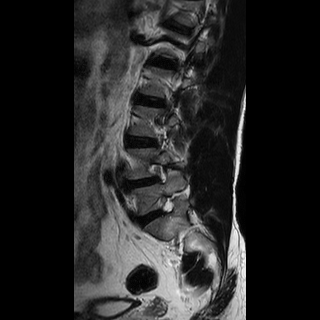LFS0: (145, 156, 174, 188)
